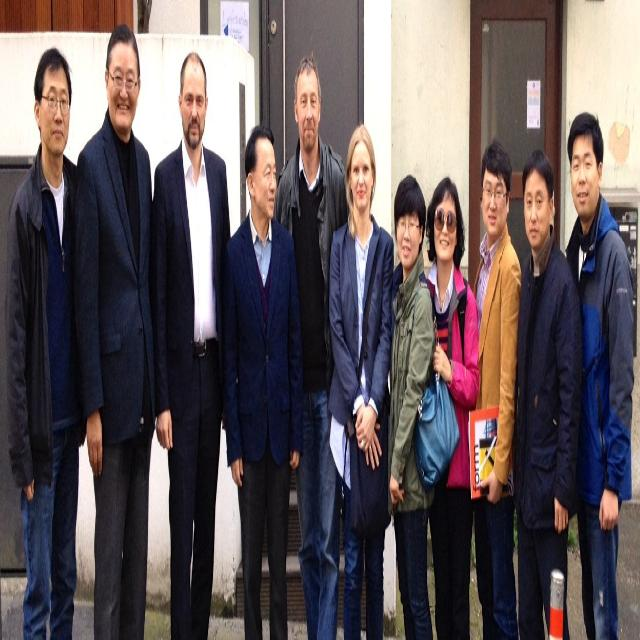body: (1, 43, 88, 639), (75, 22, 157, 640), (147, 45, 232, 639), (272, 46, 352, 638), (222, 125, 304, 635), (560, 107, 636, 639), (510, 144, 585, 639), (384, 168, 462, 639), (326, 119, 395, 638), (420, 172, 482, 638), (468, 136, 523, 639)
